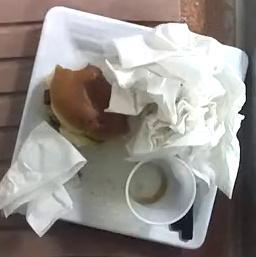burger: (49, 65, 130, 146)
